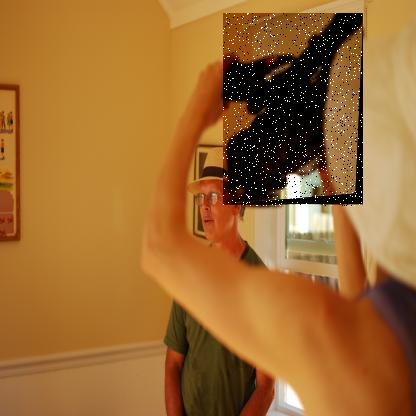Camera: (224, 15, 365, 209)
